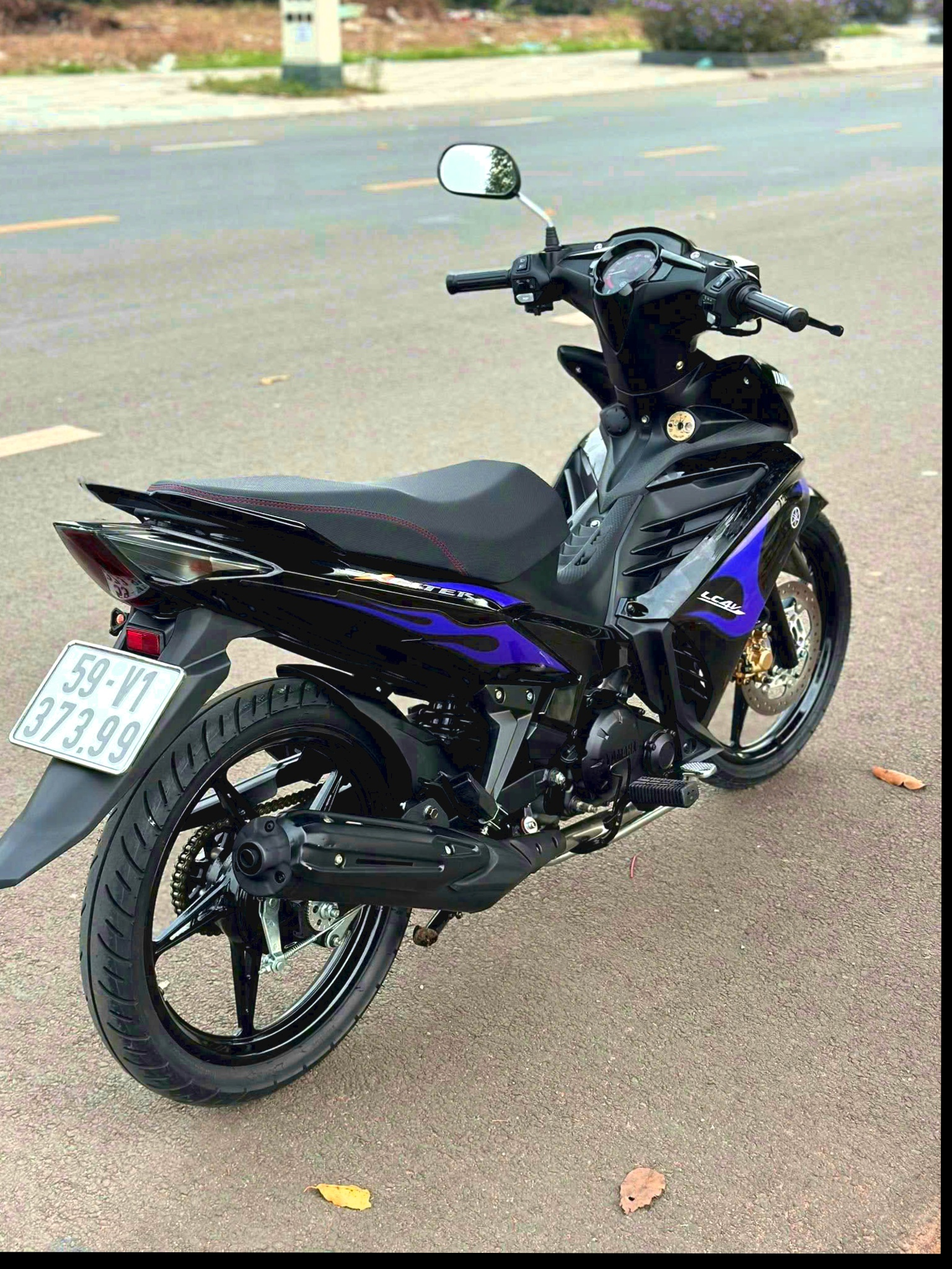Bien-so: (67, 696, 247, 848)
